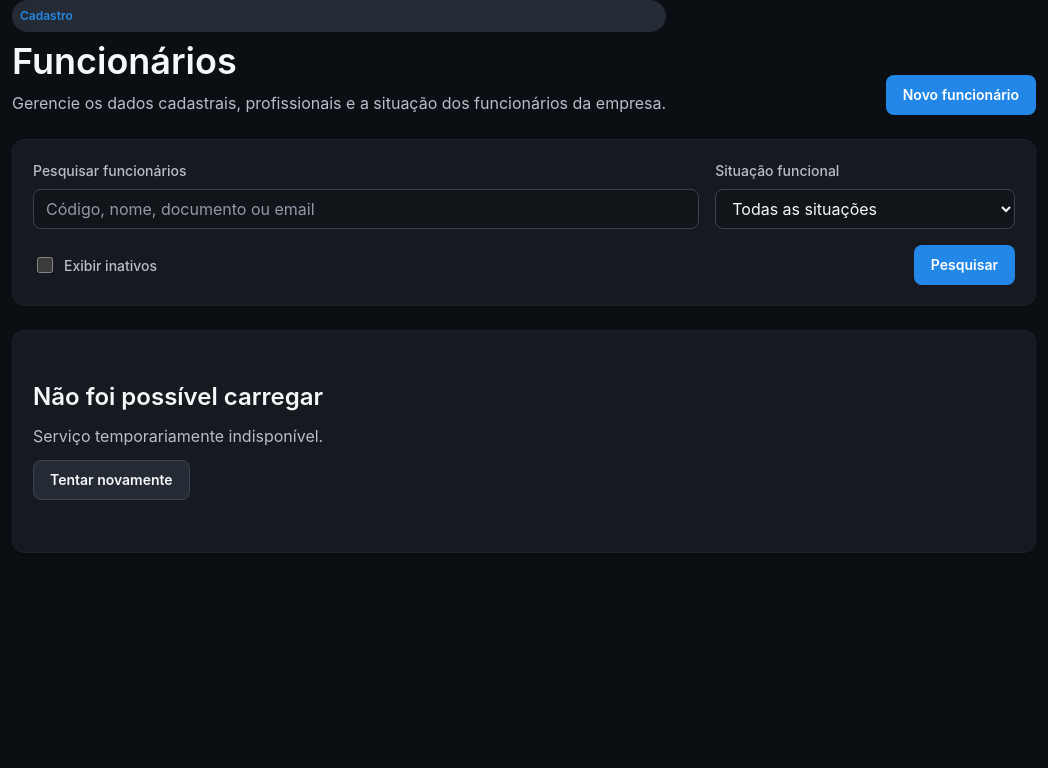
Test: EmployeesRoute › exibe erro da API e permite repetir a consulta
This screenshot has width=1048, height=768.
expect the text "Serviço temporariamente indisponível." is shown: met, box [33,424,323,448]
Click the button "Tentar novamente" at (111, 480), box [33,460,190,500]
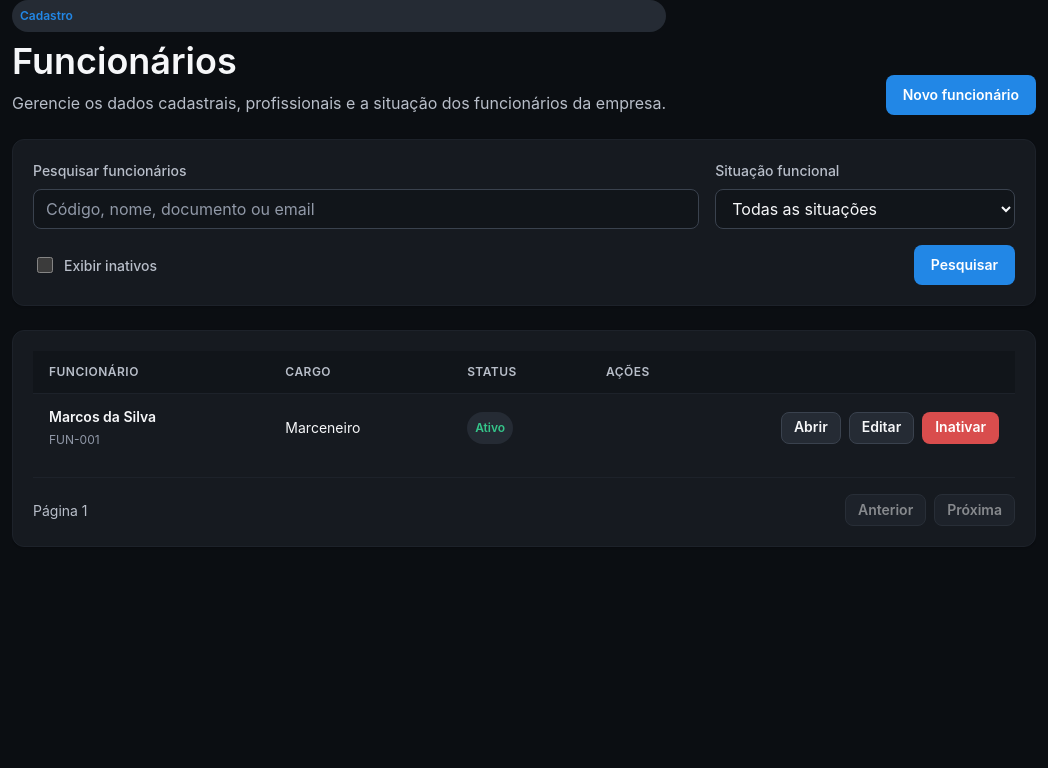
expect the button "Marcos da Silva" is shown: met, box [49,406,156,427]
